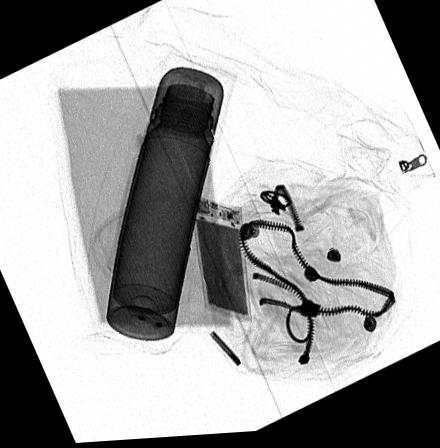Powerbank: (192, 194, 252, 327)
